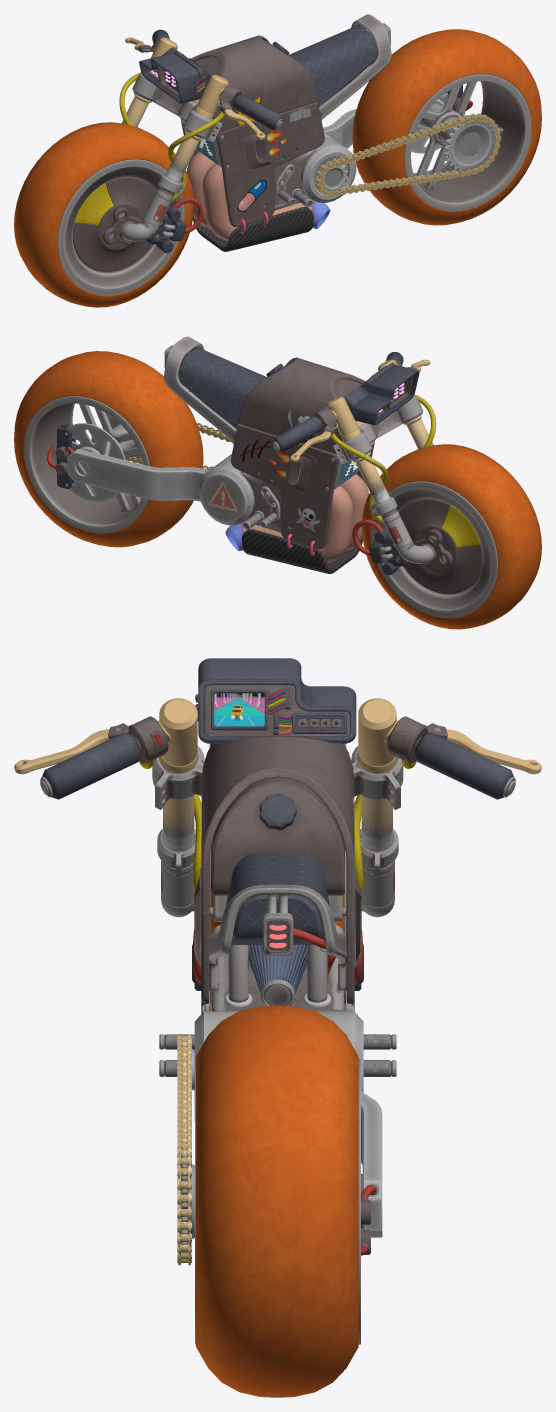
Rendered from Bike.fbx.
3 renders of one model, top to bottom at view 1: azimuth 30°, elevation 25°; view 2: azimuth 150°, elevation 25°; view 3: azimuth 270°, elevation 25°, orthographic. The views are drawn at different scales.
Visible parts, largest first — view 1: wheels_9, wheels_7, wheels_8, skin.002, skin.003, wheels_4, wheels_5, col.004, chain.009, body.003, skin, chain.011 (+22 smaller); view 2: wheels_9, wheels_7, skin.002, wheels_8, wheels_4, skin.003, chain.004, wheels_5, col.004, body.003, chain.006, skin (+20 smaller); view 3: wheels_9, skin.003, body.016, fork.003, col.004, fork.005, col.001, fork.006, headlight.003, fork.007, chain.009, fork.008 (+20 smaller).
Boxes of the visible parts, x1=… form: wheels_9: x1=352, y1=29, x2=541, y2=225; wheels_7: x1=14, y1=122, x2=194, y2=307; wheels_8: x1=404, y1=74, x2=531, y2=210; skin.002: x1=180, y1=101, x2=324, y2=226; skin.003: x1=191, y1=35, x2=317, y2=131; wheels_4: x1=57, y1=159, x2=184, y2=295; wheels_5: x1=72, y1=176, x2=155, y2=271; col.004: x1=288, y1=25, x2=376, y2=106; chain.009: x1=314, y1=113, x2=501, y2=196; body.003: x1=186, y1=151, x2=330, y2=240; skin: x1=193, y1=207, x2=313, y2=251; chain.011: x1=444, y1=116, x2=496, y2=172; wheels_9: x1=14, y1=351, x2=203, y2=547; wheels_7: x1=361, y1=444, x2=541, y2=629; skin.002: x1=231, y1=423, x2=374, y2=549; wheels_8: x1=24, y1=396, x2=149, y2=533; wheels_4: x1=371, y1=481, x2=498, y2=617; skin.003: x1=238, y1=357, x2=365, y2=453; chain.004: x1=67, y1=449, x2=208, y2=501; wheels_5: x1=400, y1=498, x2=482, y2=593; col.004: x1=178, y1=347, x2=267, y2=428; body.003: x1=225, y1=474, x2=368, y2=562; chain.006: x1=198, y1=459, x2=254, y2=525; skin: x1=241, y1=529, x2=362, y2=573; wheels_9: x1=196, y1=1005, x2=358, y2=1397; skin.003: x1=201, y1=736, x2=354, y2=912; body.016: x1=211, y1=777, x2=344, y2=895; fork.003: x1=42, y1=732, x2=513, y2=799; col.004: x1=226, y1=851, x2=329, y2=944; fork.005: x1=159, y1=698, x2=396, y2=773; col.001: x1=209, y1=884, x2=346, y2=990; fork.006: x1=152, y1=745, x2=403, y2=809; headlight.003: x1=198, y1=658, x2=356, y2=714; fork.007: x1=163, y1=795, x2=392, y2=868; chain.009: x1=177, y1=1034, x2=191, y2=1265; fork.008: x1=161, y1=860, x2=394, y2=917.
Size of what is drawn, in the model's own units: 911 by 391 by 418.
12 materials, 9 textured.
